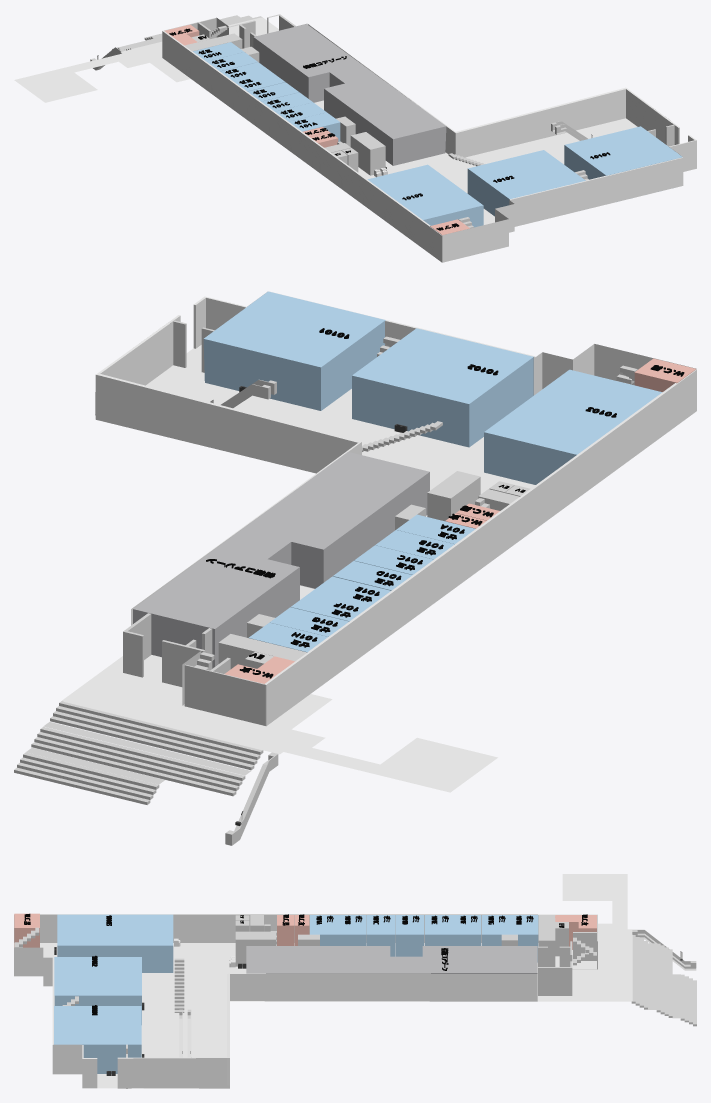
File: 10map2.glb
The picture shows the model from 3 angles, top to bottom: view 1: azimuth 30°, elevation 25°; view 2: azimuth 150°, elevation 25°; view 3: azimuth 270°, elevation 25°; orthographic projection. The views are drawn at different scales.
Visible parts, largest first — view 1: 平面.021, 情報コアゾーン, 10102, 10103, 10101, EV.006, 壁.003, ゼミ101A, ゼミ101G, ゼミ101C, ゼミ101E, ゼミ101D (+5 smaller); view 2: 平面.021, 情報コアゾーン, 10102, 10101, 10103, 壁.003, 新階段.003, 新階段.001, 新階段.002, EV.006, 壁.001, 壁.002 (+14 smaller); view 3: 平面.021, 情報コアゾーン, 10103, 10101, 10102, 新階段.003, ゼミ101D, 新階段.001, 壁.002, ゼミ101C, EV.006, ゼミ101E (+17 smaller).
Boxes of the visible parts, box(x1,y1,x2,y2) form: 平面.021: box(14, 17, 696, 262); 情報コアゾーン: box(253, 24, 446, 165); 10102: box(467, 150, 585, 216); 10103: box(367, 164, 483, 227); 10101: box(564, 126, 682, 179); EV.006: box(350, 132, 385, 175); 壁.003: box(164, 17, 256, 48); ゼミ101A: box(289, 112, 340, 141); ゼミ101G: box(206, 52, 257, 71); ゼミ101C: box(261, 92, 312, 111); ゼミ101E: box(234, 72, 284, 91); ゼミ101D: box(248, 82, 298, 101); 平面.021: box(62, 291, 696, 792); 情報コアゾーン: box(133, 452, 429, 668); 10102: box(352, 328, 533, 447); 10101: box(203, 291, 385, 410); 10103: box(484, 369, 662, 484); 壁.003: box(162, 628, 265, 725); 新階段.003: box(31, 727, 245, 796); 新階段.001: box(50, 701, 263, 770); 新階段.002: box(14, 752, 159, 804); EV.006: box(427, 471, 480, 521); 壁.001: box(218, 634, 306, 668); 壁.002: box(123, 613, 151, 677); 平面.021: box(14, 874, 632, 1088); 情報コアゾーン: box(246, 946, 537, 973); 10103: box(57, 914, 173, 972); 10101: box(54, 1006, 141, 1073); 10102: box(54, 957, 141, 1024); 新階段.003: box(656, 943, 672, 1017); ゼミ101D: box(395, 915, 423, 956); 新階段.001: box(631, 935, 647, 1009); 壁.002: box(538, 961, 572, 995); ゼミ101C: box(367, 915, 395, 956); EV.006: box(235, 931, 276, 966); ゼミ101E: box(424, 915, 452, 945).
Bounding box in the file's own units: 20.66 × 3.2 × 27.79.
